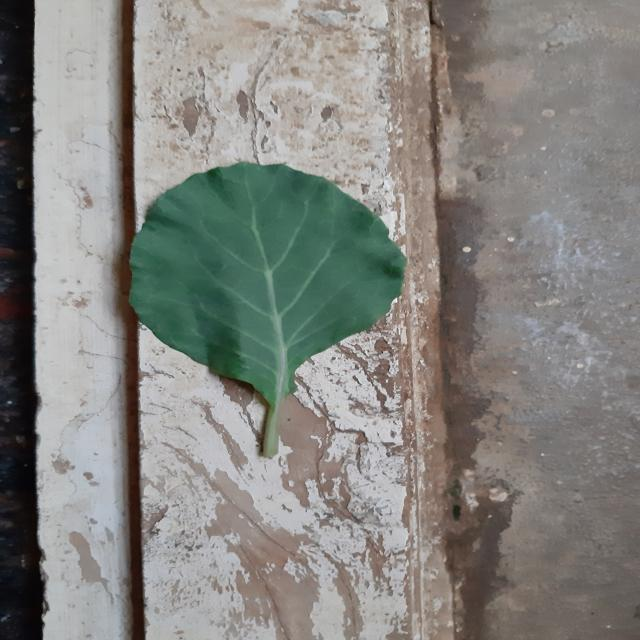Kohlrabi: (131, 162, 407, 456)
